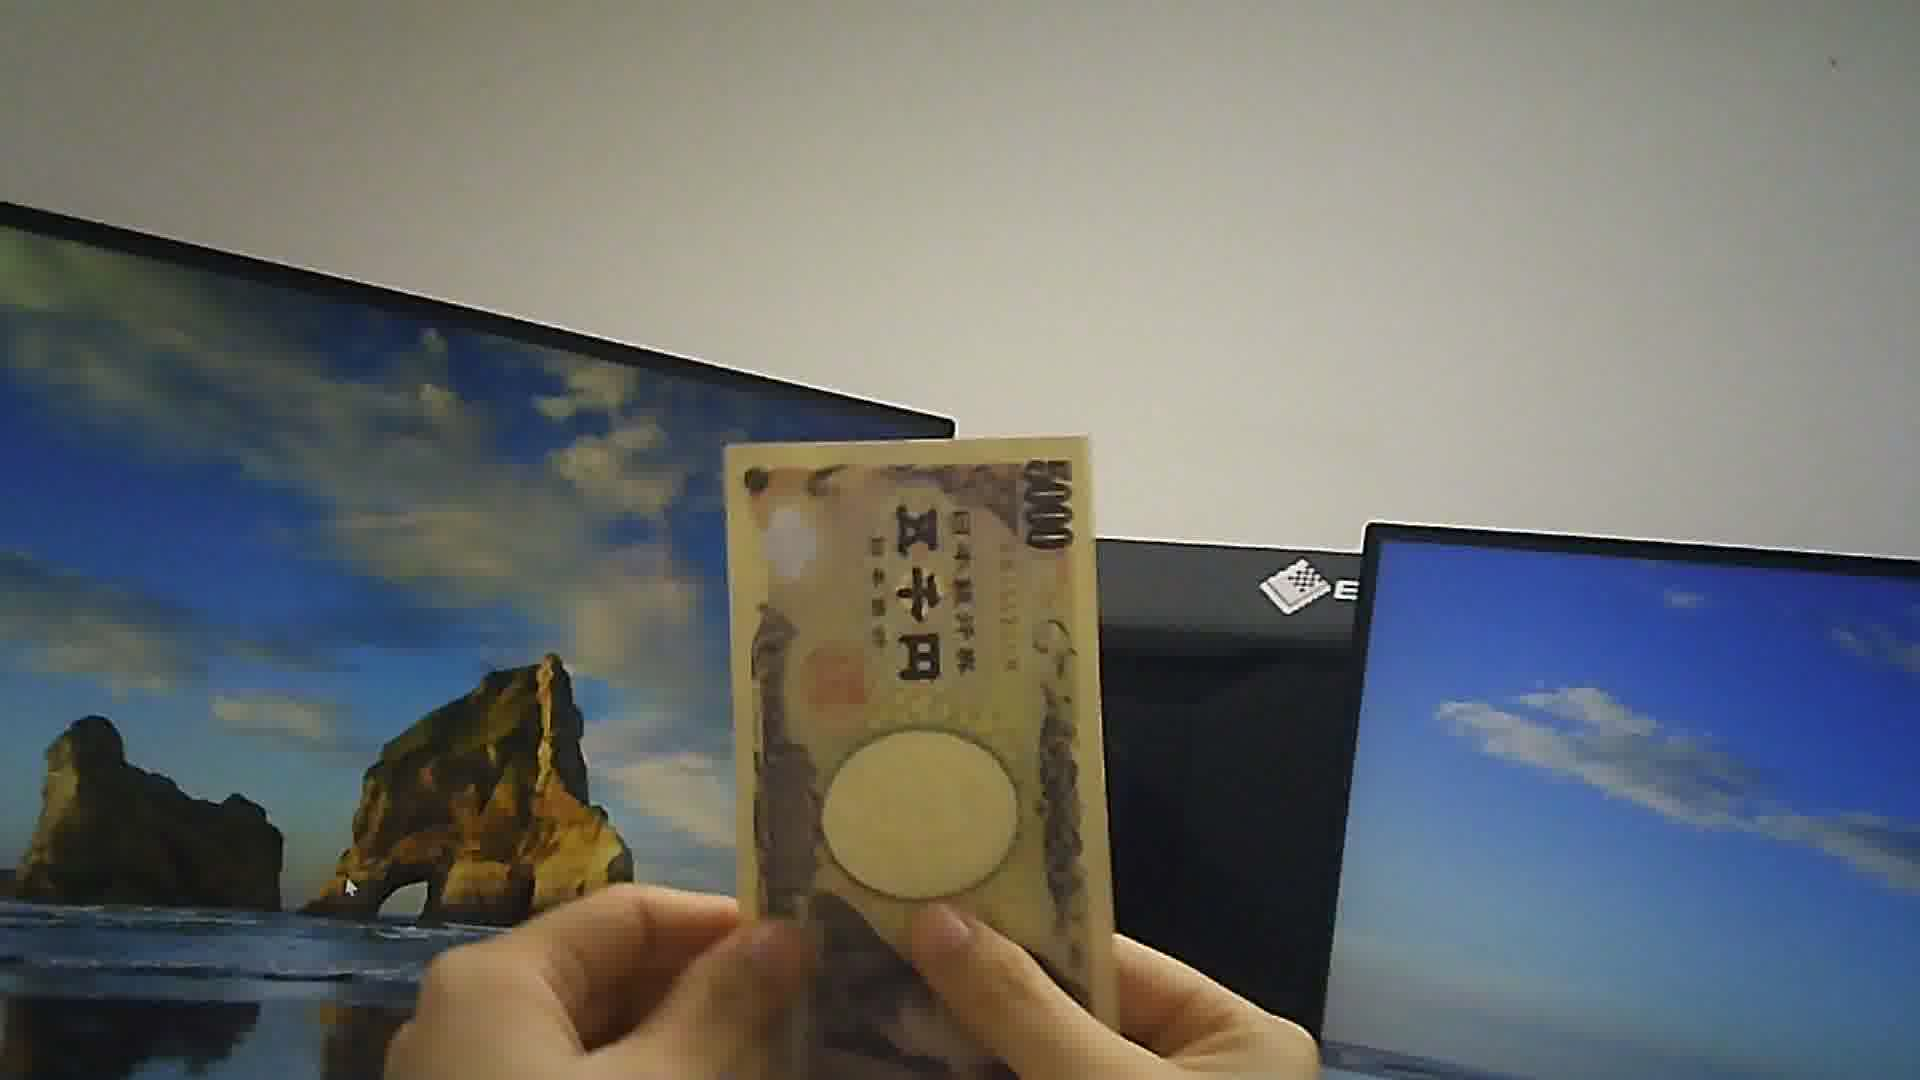5,000 Yen: (696, 411, 1139, 1065)
